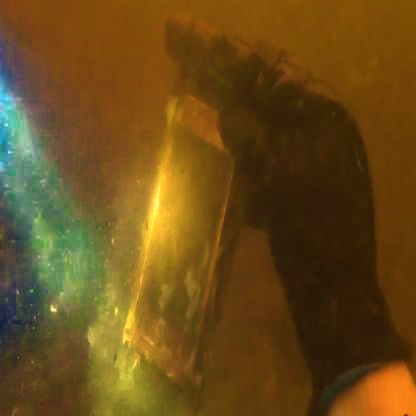cellphone: (126, 91, 240, 384)
